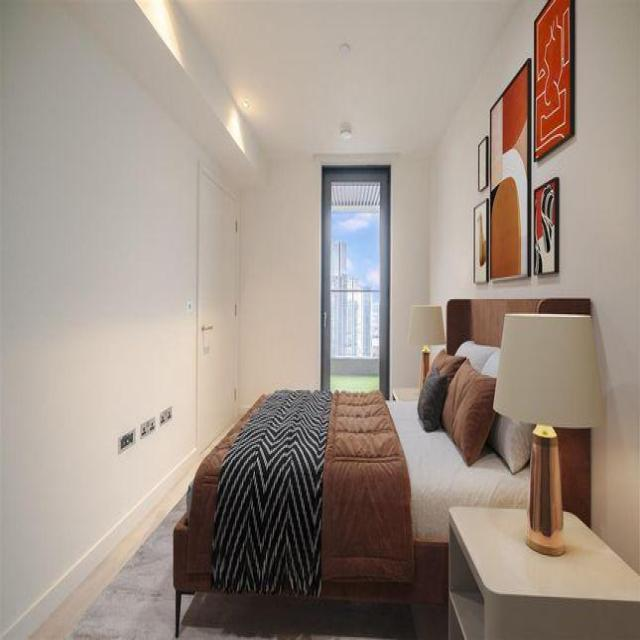Wall: (391, 0, 640, 569), (0, 2, 202, 637), (177, 0, 516, 160), (64, 0, 268, 186), (237, 159, 321, 410), (69, 499, 185, 638), (180, 594, 444, 639)
